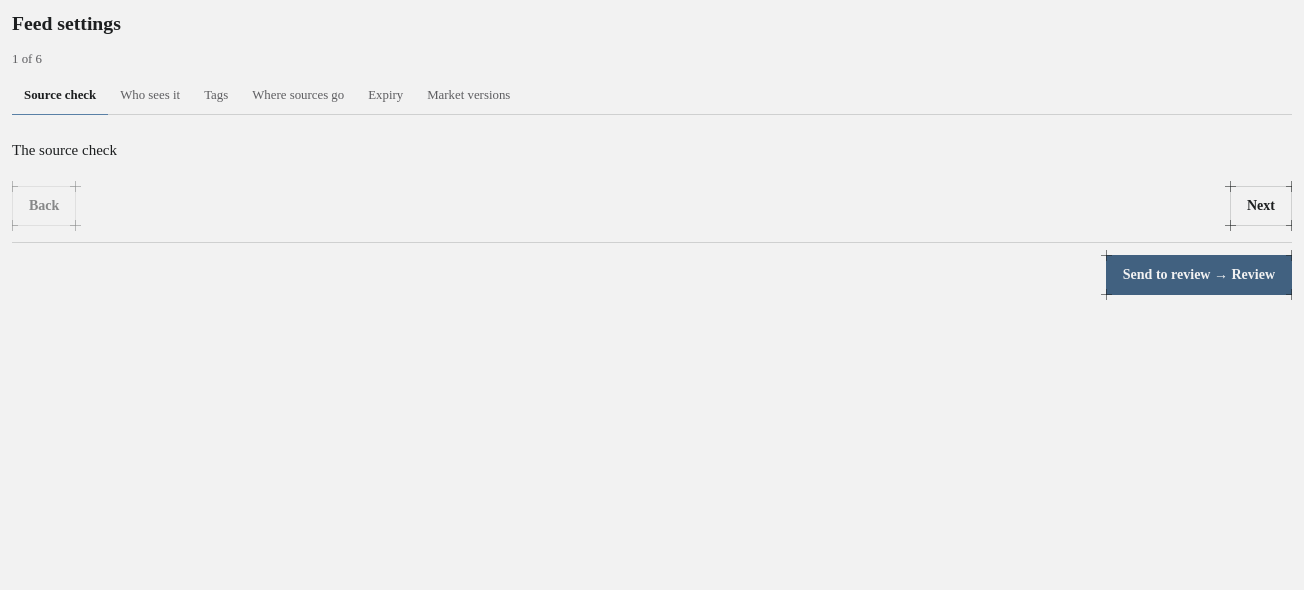
Test case: SettingsForm: one panel at a time, the post beside it › jumps to any panel from the indicator
Step 1. Click the tab "Tags" → (216, 96), box x1=192 y1=78 x2=240 y2=115
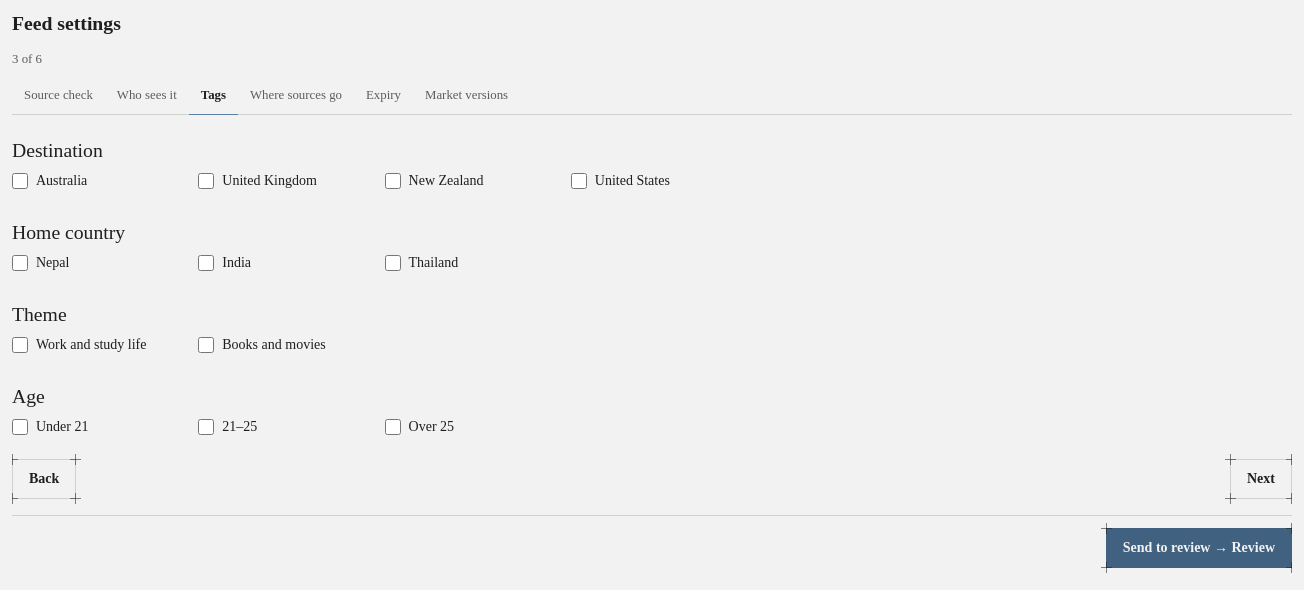
Expected: the text "3 of 6" is shown, x1=12 y1=52 x2=42 y2=66
Expected: the element "Destination" is shown, x1=12 y1=139 x2=670 y2=189
Step 2. Click the tab "Source check" → (58, 96), box x1=12 y1=78 x2=105 y2=115
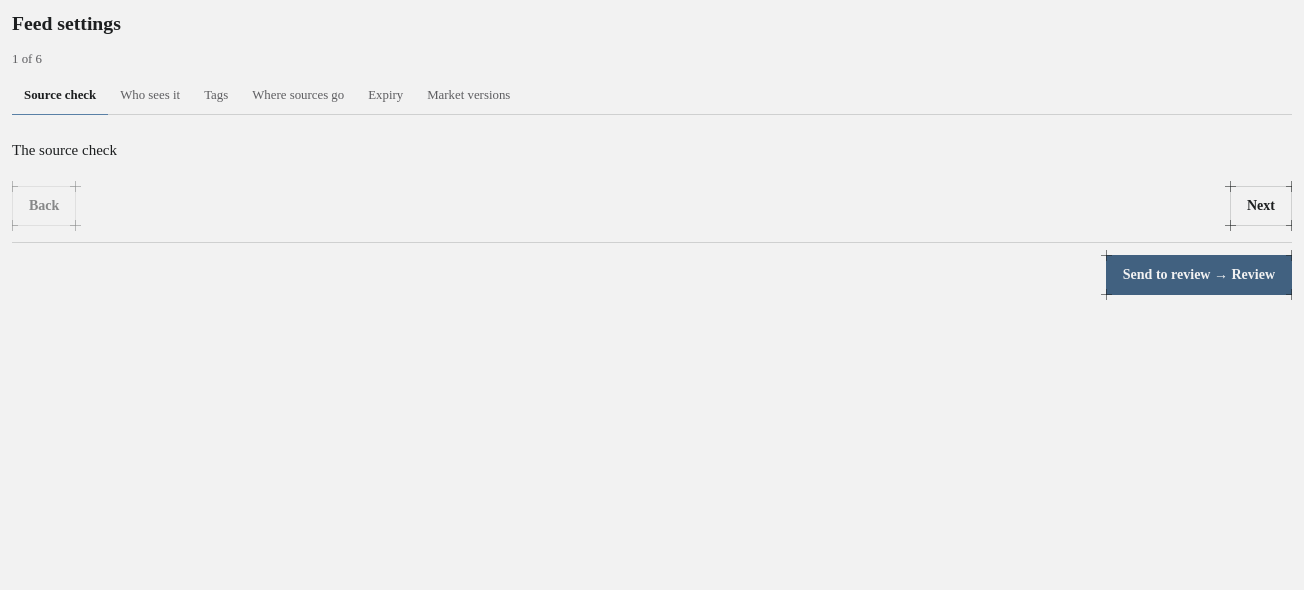
Expected: the text "1 of 6" is shown, x1=12 y1=52 x2=42 y2=66
Expected: the text "The source check" is shown, x1=12 y1=142 x2=117 y2=158
